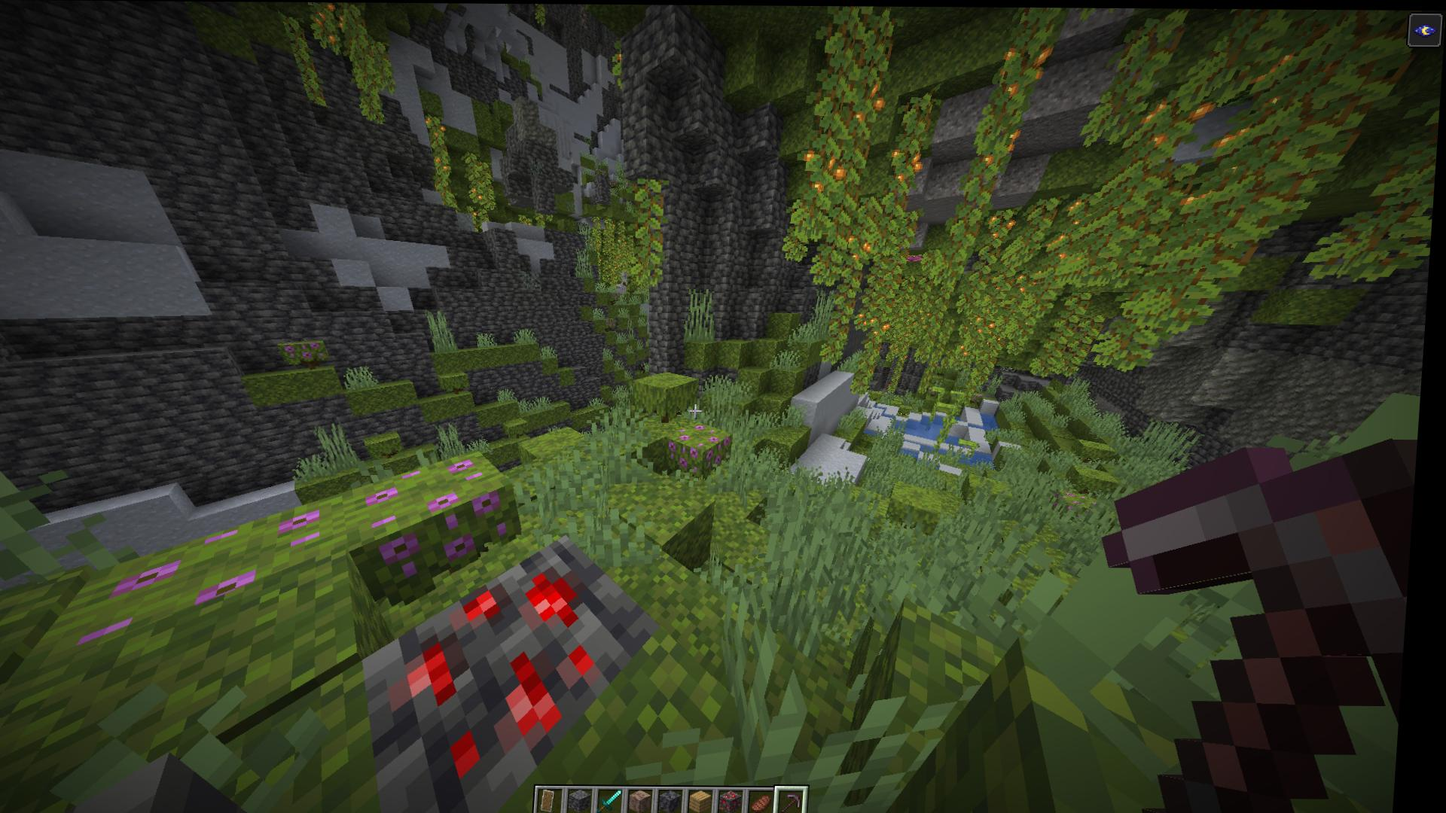redstone ore: (383, 549, 660, 805)
